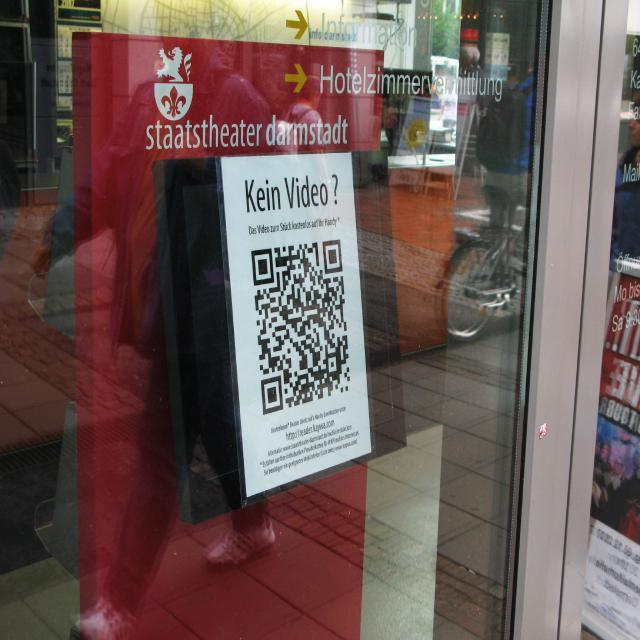qrcode: (252, 241, 352, 416)
